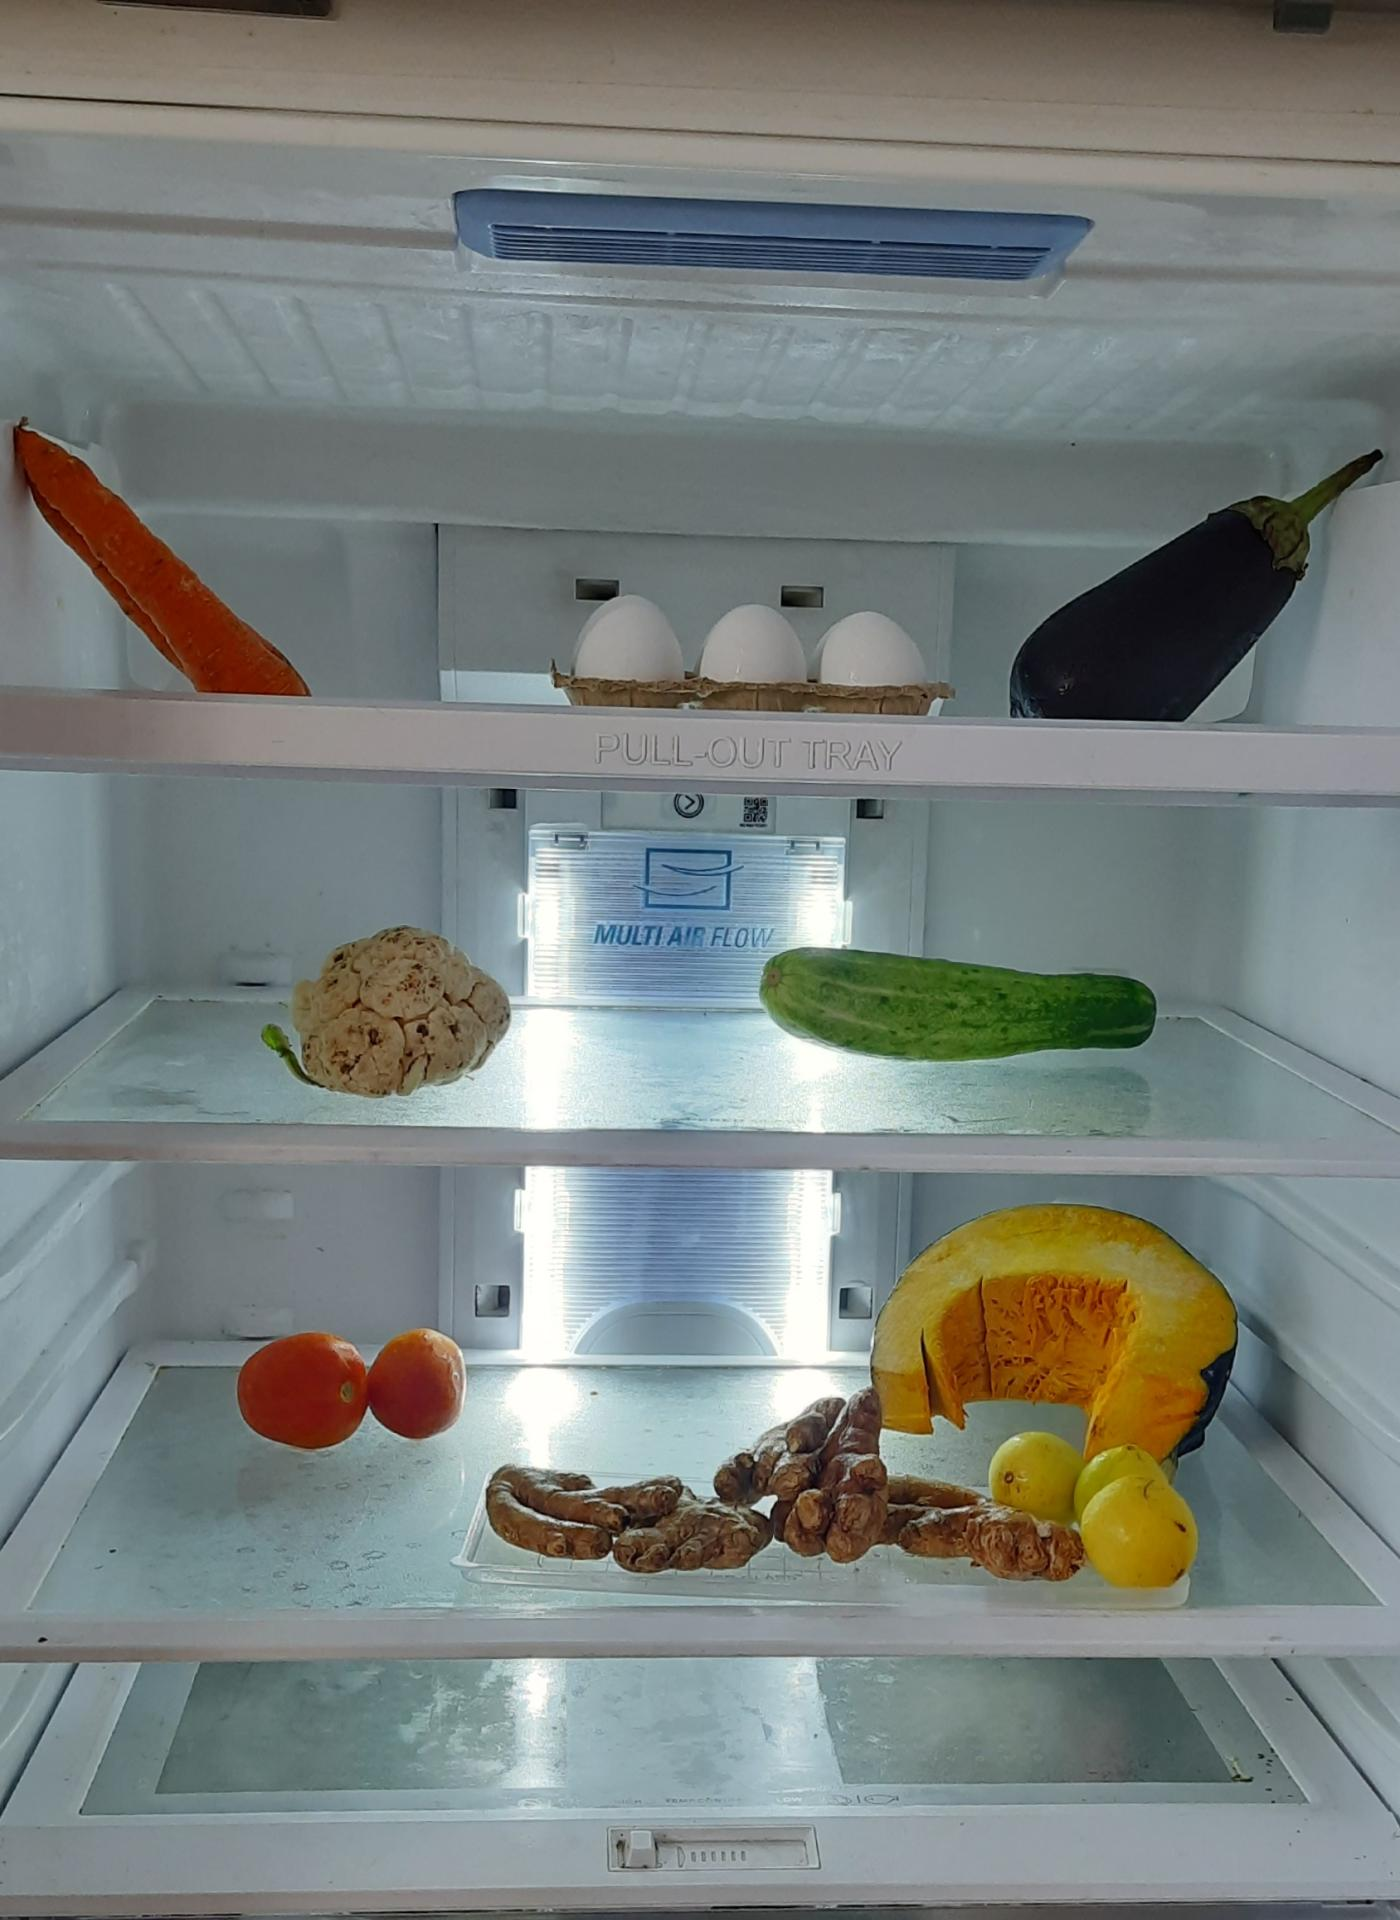brinjal: (993, 416, 1394, 729)
carrots: (0, 385, 312, 690)
cauliflower: (271, 926, 520, 1099)
cucumber: (757, 950, 1169, 1069)
egg: (556, 575, 950, 733)
ginger: (495, 1379, 1109, 1583)
lemon: (971, 1434, 1200, 1586)
pumpkin: (860, 1190, 1255, 1452)
tomato: (233, 1316, 477, 1446)
